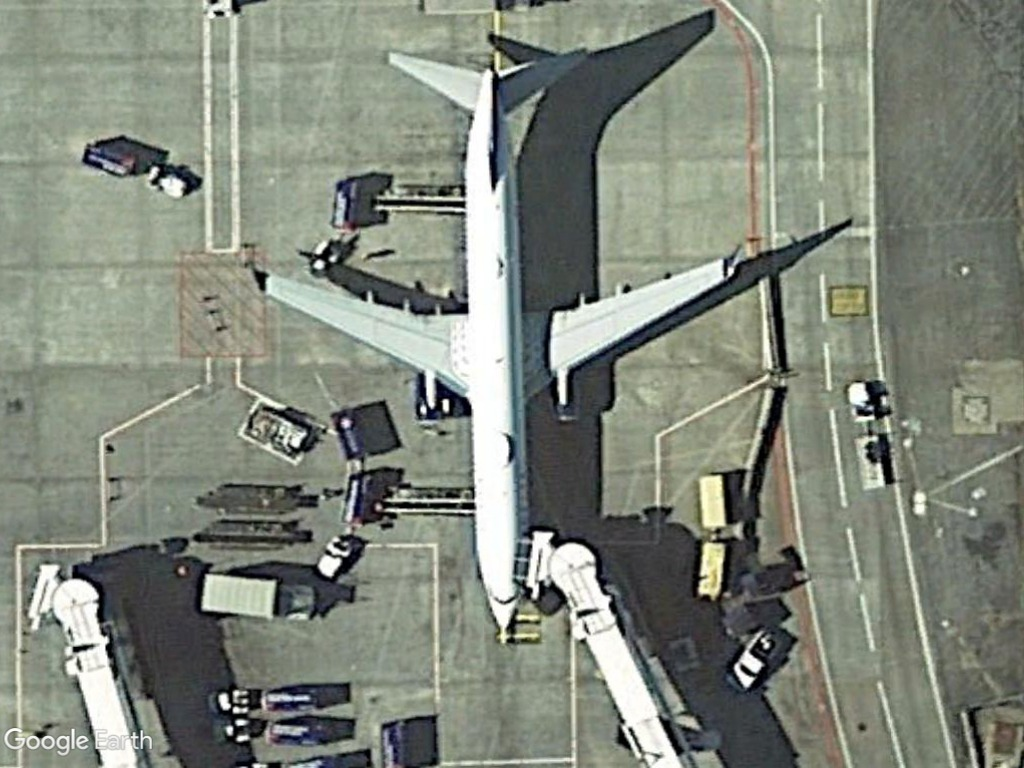airliner: (234, 34, 750, 639)
